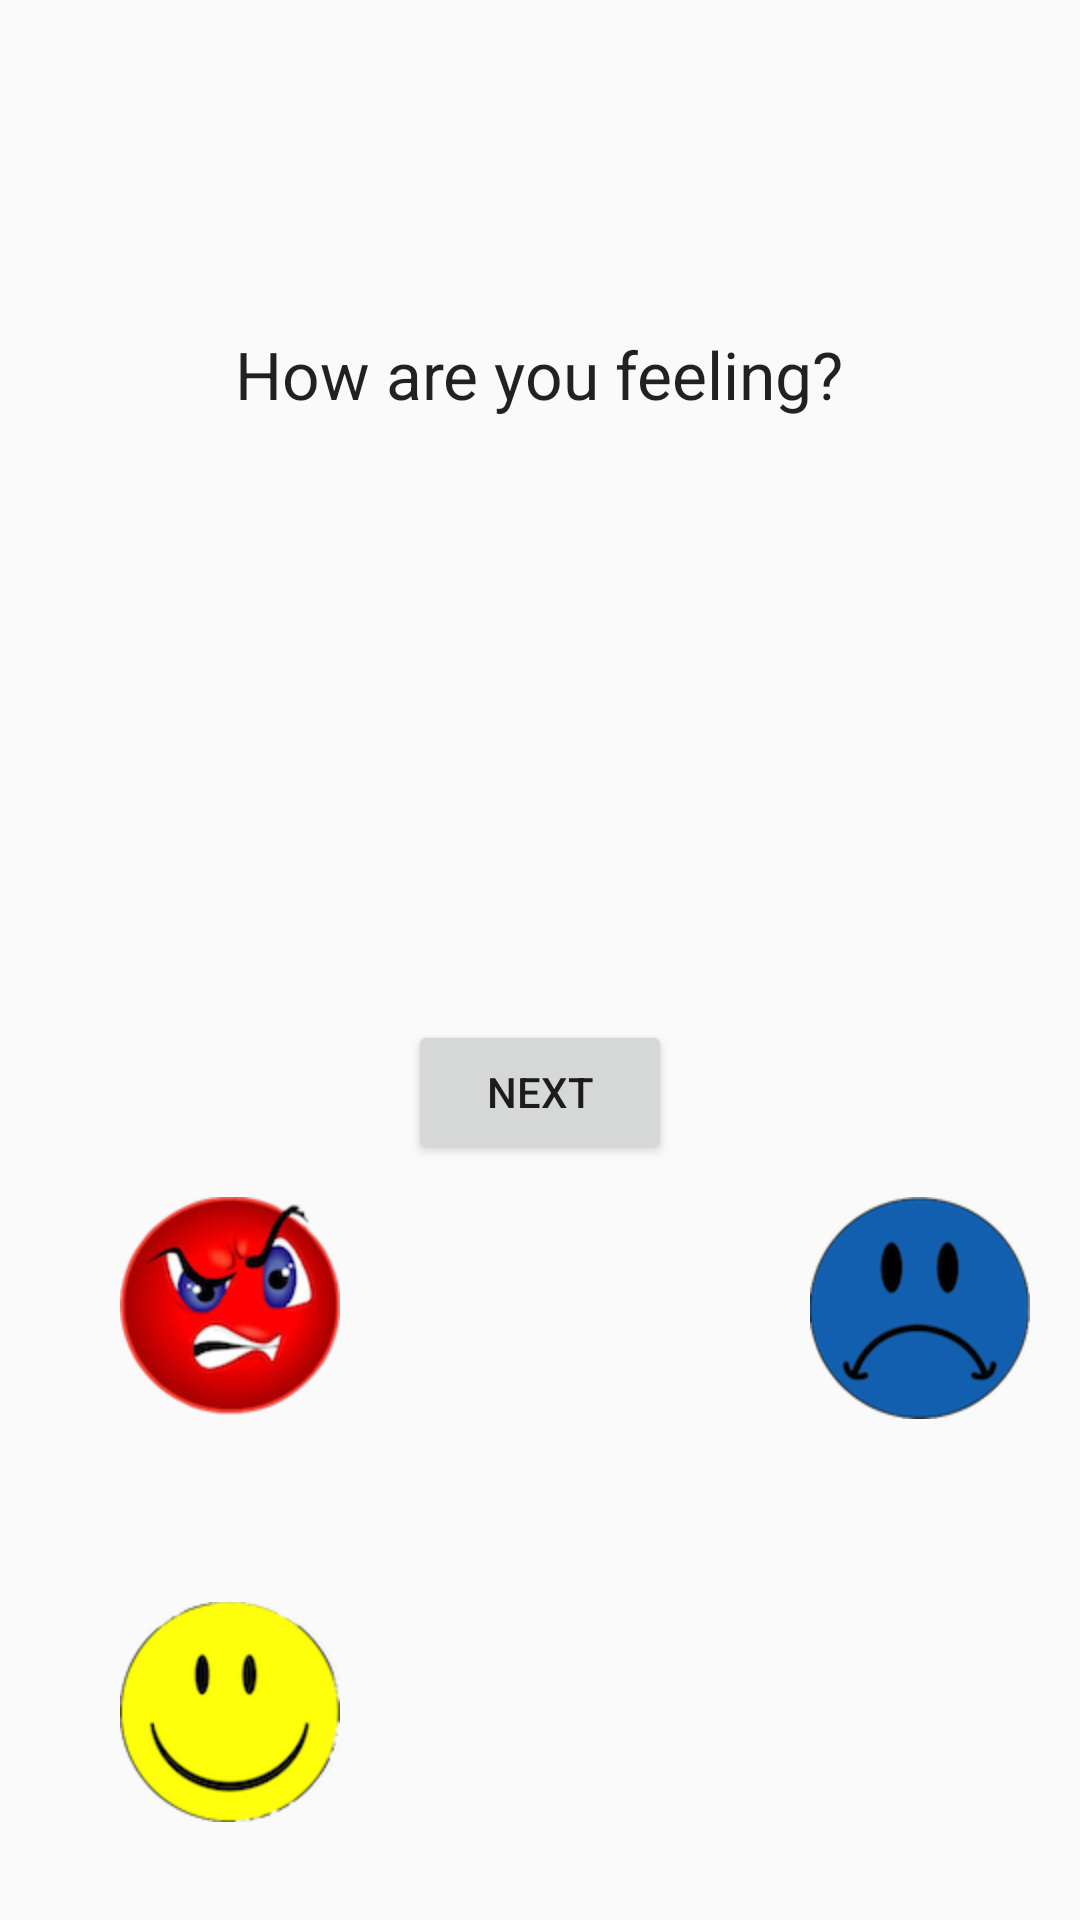

Named icons in this screenshot (1080*1920) and their bounding boxes, (x1, y1, x2, y2):
angrycopy: (120, 1197, 340, 1415)
happycopy: (120, 1602, 340, 1822)
sadcopy: (810, 1197, 1030, 1419)
